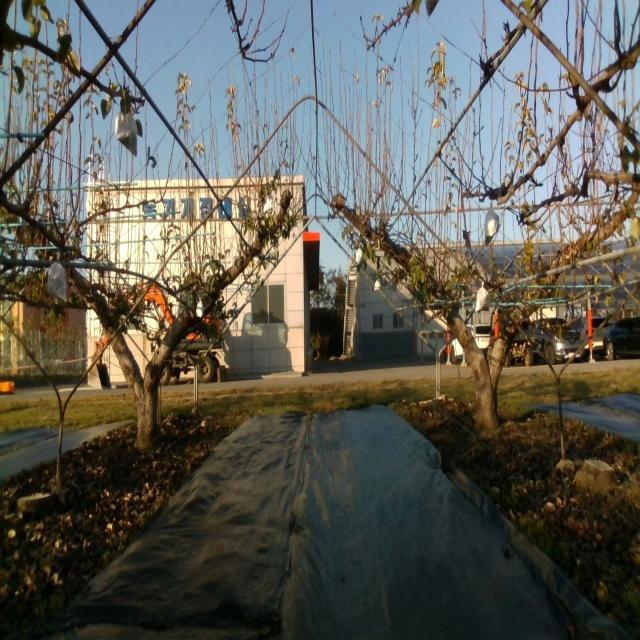pearbags: (47, 252, 67, 304), (114, 113, 138, 156), (484, 206, 499, 245), (475, 280, 489, 312), (266, 192, 276, 211)
